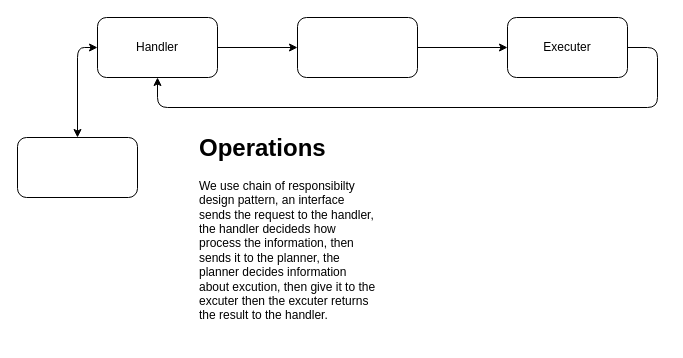
Image size: 683x358. Some labels were removed from this diagram. Each missing label, with the centre of its shape:
Interface: the point at 77,167
Planner: the point at 357,47
